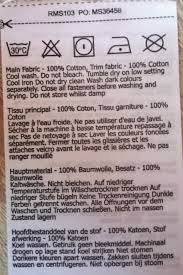ER_iron_low_temp: (104, 32, 133, 58)
ER_no_bleach: (38, 36, 64, 61)
ER_no_dry_clean: (141, 31, 166, 56)
ER_tumble_dry_low_heat: (68, 31, 99, 60)
ER_wash_30: (5, 36, 34, 60)
